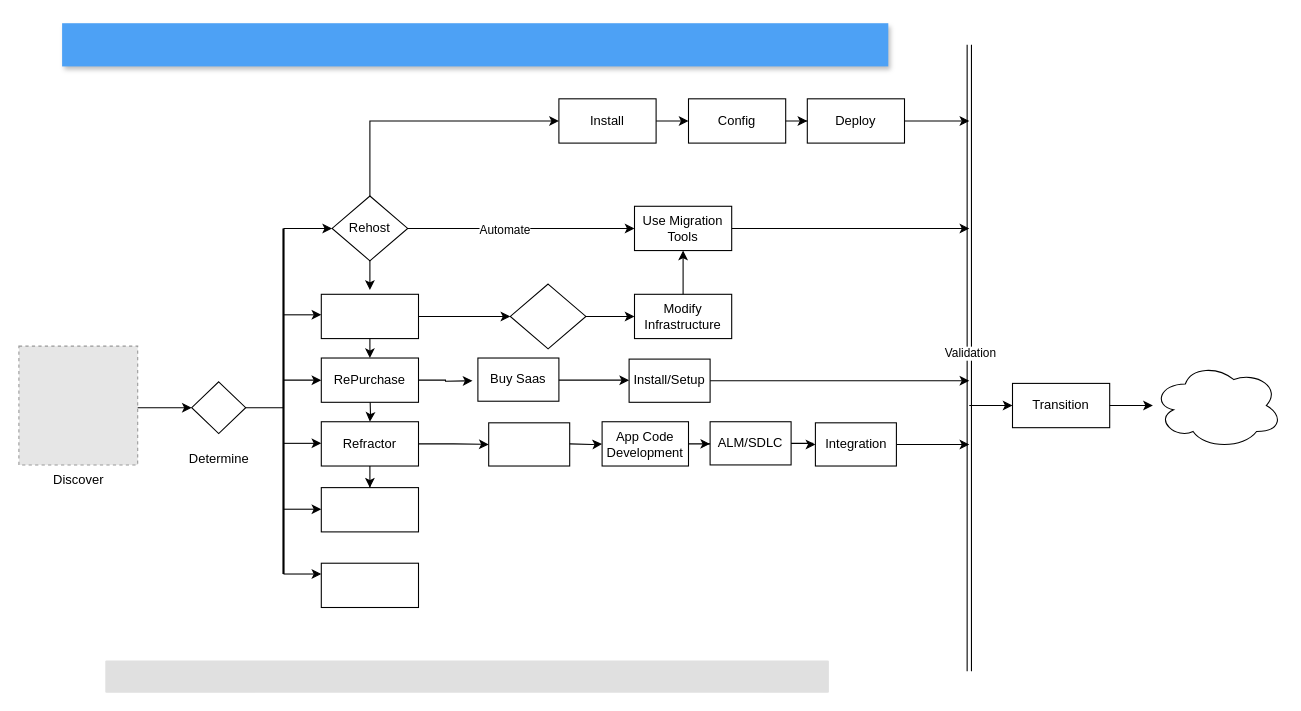
The diagram is 1301 pixels wide and 711 high, and some of its shapes have lost their labels. Grey dashed boxes stand in for pictures. The centre of each missing label's shape, as x and y in pixels:
AWS Migration: point 475,45
Determine Platform: point 547,316
Production: point 1217,405
ReDesign: point 529,444
RePlatform: point 369,316
Retain: point 369,509
Retire: point 369,585
